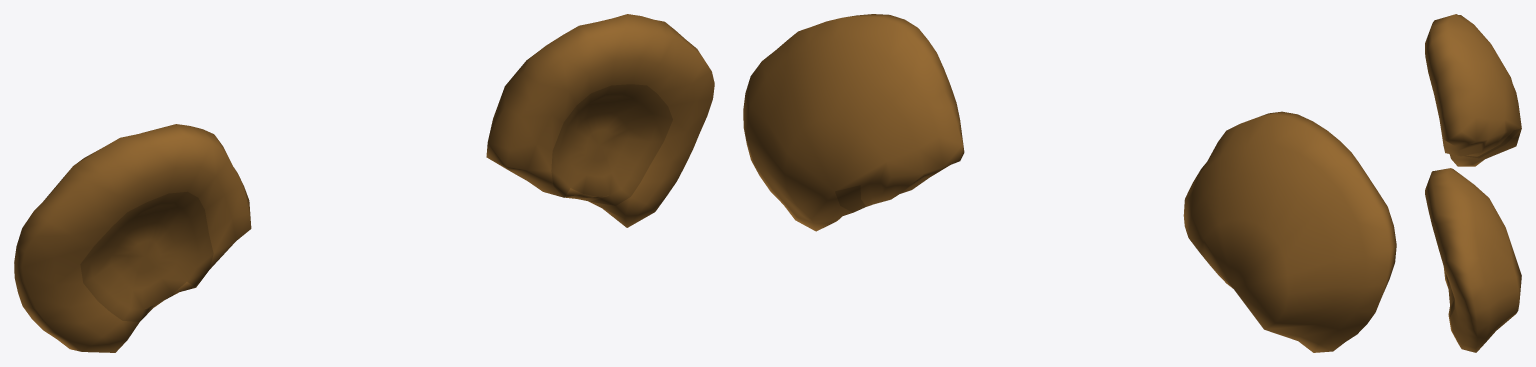
The model's file is Hat_118_01.fbx.
3 renders of one model, left to right at view 1: azimuth 30°, elevation 25°; view 2: azimuth 150°, elevation 25°; view 3: azimuth 270°, elevation 25°, orthographic. The views are drawn at different scales.
Visible parts, largest first — view 1: Hat_118_01; view 2: Hat_118_01; view 3: Hat_118_01.
Part boxes in pixels (x1,y1,x2,y2): Hat_118_01: [14, 14, 714, 352]; Hat_118_01: [743, 14, 1396, 352]; Hat_118_01: [1425, 14, 1521, 352].
Bounding box in the file's own units: 33.66 × 10.51 × 5.76.
